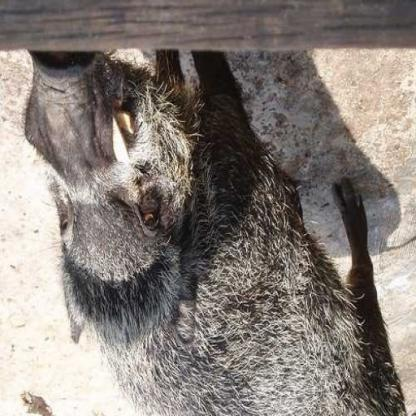boar: (54, 1, 396, 413)
